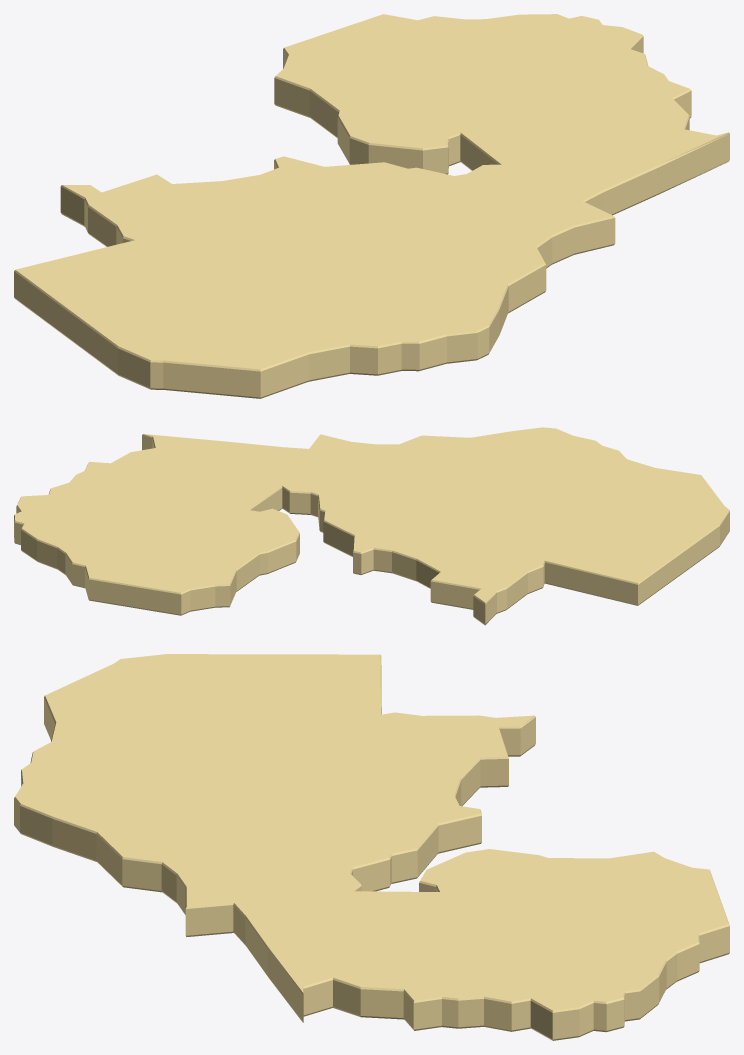
The model's file is ZMB.glb.
The picture shows the model from 3 angles, top to bottom: view 1: azimuth 30°, elevation 25°; view 2: azimuth 150°, elevation 25°; view 3: azimuth 270°, elevation 25°; orthographic projection. The views are drawn at different scales.
Bounding box in the file's own units: 1.72 × 0.068 × 1.46.
